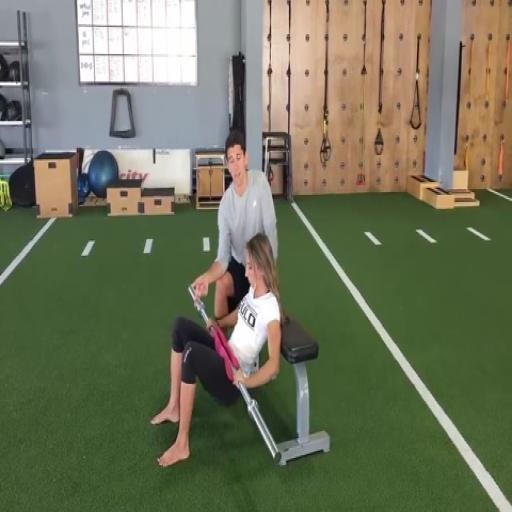exercise: (148, 232, 286, 471), (189, 130, 280, 327)
